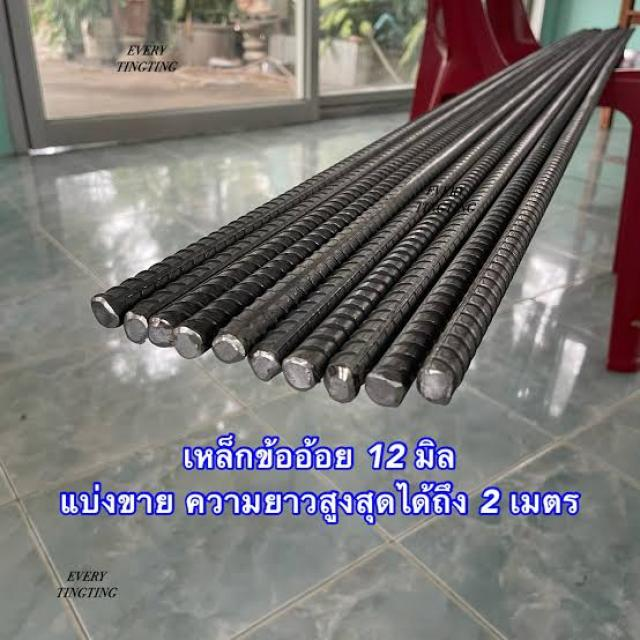Rebar: (324, 363, 361, 405), (281, 355, 322, 391), (365, 370, 403, 408), (423, 366, 454, 409), (91, 299, 121, 339), (251, 344, 282, 382), (214, 333, 249, 365), (173, 328, 205, 363), (150, 315, 180, 348), (126, 312, 149, 345)
